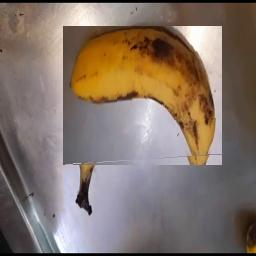Banana Semirotten: (63, 27, 222, 166)
